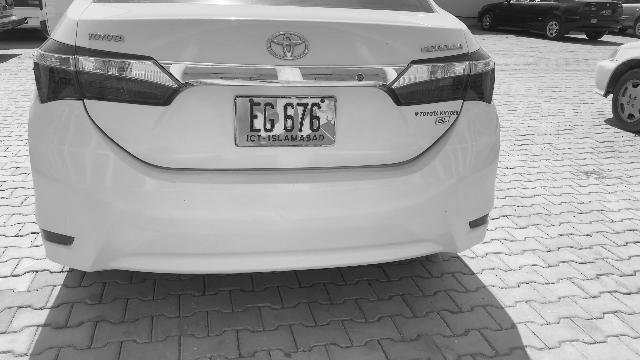Number: (245, 102, 332, 136)
